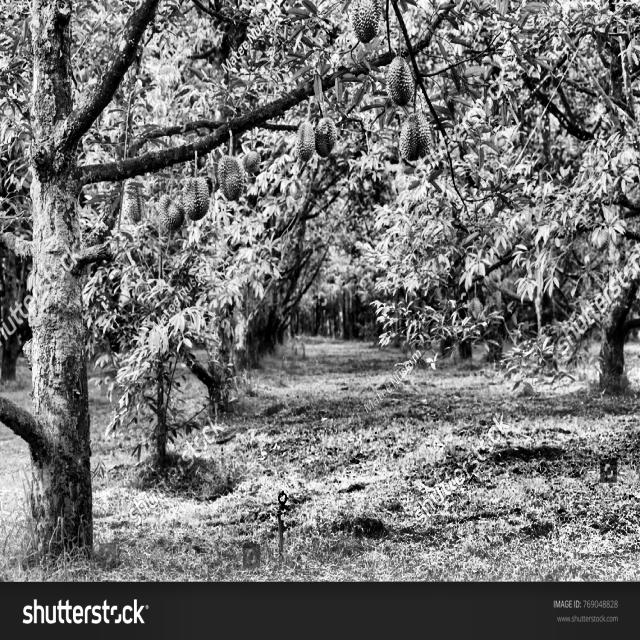arvore: (12, 0, 105, 585), (606, 26, 636, 410), (202, 291, 245, 408)
